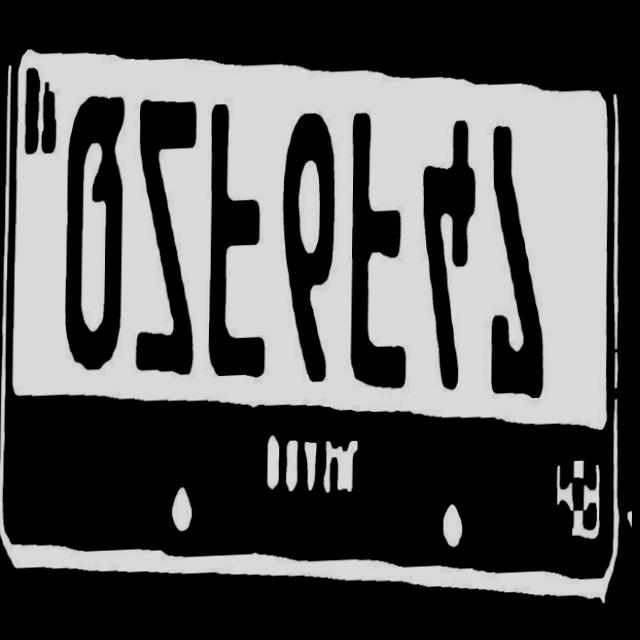4: (418, 108, 483, 406)
6: (276, 106, 341, 398)
7: (480, 121, 555, 414)
f: (342, 99, 415, 403), (205, 91, 272, 386)
q: (60, 83, 132, 398)
z: (131, 86, 204, 390)
